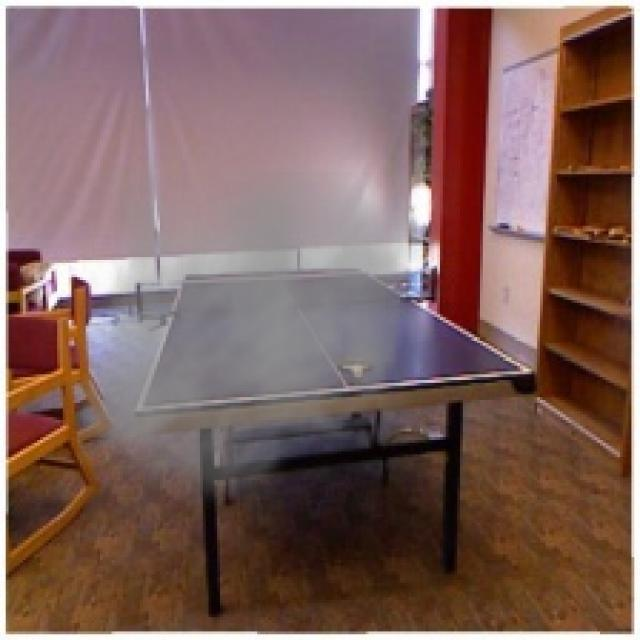Smoke: (77, 172, 420, 514)
